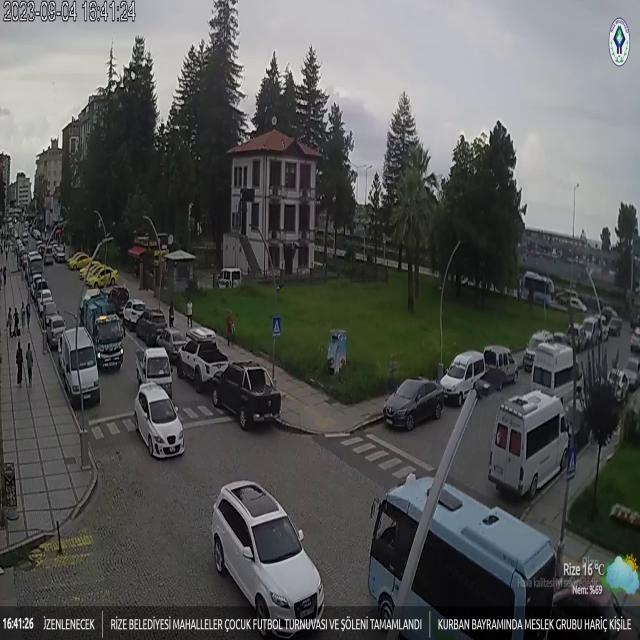Bus: (366, 468, 555, 640), (522, 269, 556, 306), (25, 250, 47, 288)
Car: (211, 479, 332, 640), (133, 382, 186, 459), (382, 376, 445, 430), (484, 344, 520, 388), (135, 307, 168, 342), (156, 328, 188, 362), (604, 366, 628, 406), (122, 298, 148, 332), (44, 315, 66, 350), (89, 266, 119, 288), (625, 356, 640, 391), (35, 290, 55, 314), (68, 254, 94, 272), (568, 296, 586, 314), (629, 325, 640, 354)
Truck: (212, 359, 284, 432), (78, 291, 126, 371), (178, 329, 229, 391), (131, 347, 174, 395)
Van: (484, 391, 570, 499), (59, 328, 104, 407), (531, 343, 582, 402), (441, 349, 485, 406), (214, 266, 242, 291)
